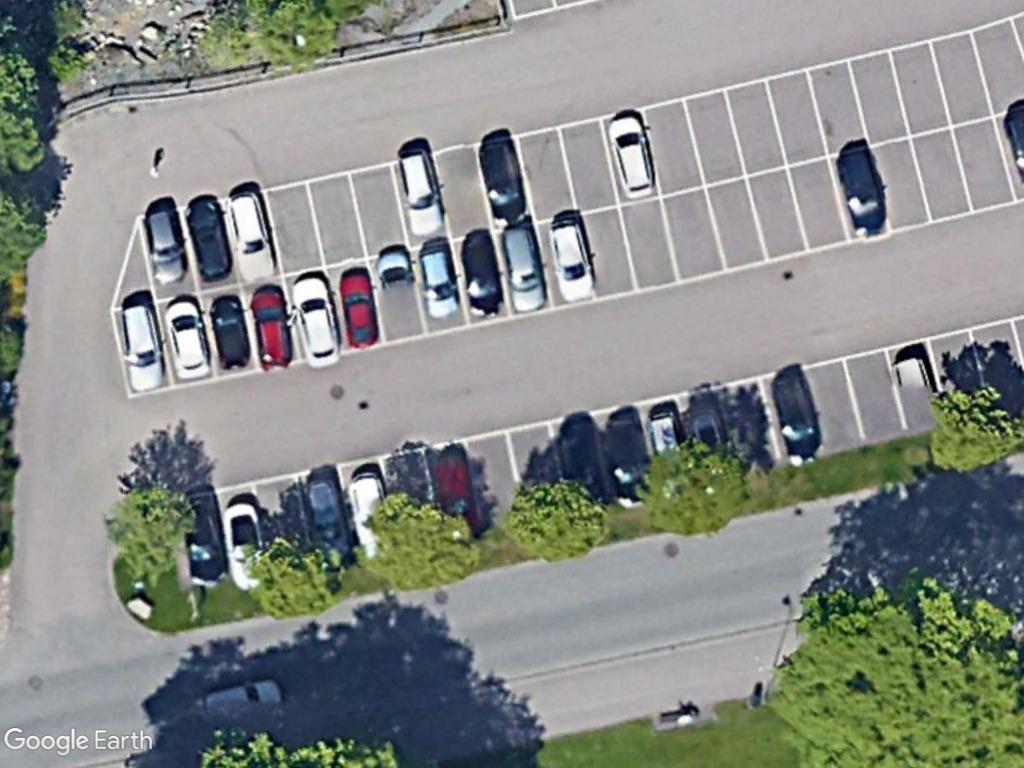car: (387, 140, 453, 246), (831, 144, 896, 246), (762, 368, 827, 469), (450, 217, 510, 319), (493, 216, 553, 318), (470, 134, 532, 232), (152, 290, 215, 381), (177, 193, 235, 290), (229, 184, 282, 290), (288, 263, 339, 372), (543, 209, 599, 306), (116, 299, 170, 399), (246, 282, 299, 378), (603, 113, 661, 200), (410, 236, 464, 326), (137, 204, 192, 292), (331, 263, 384, 352), (205, 288, 253, 375)
